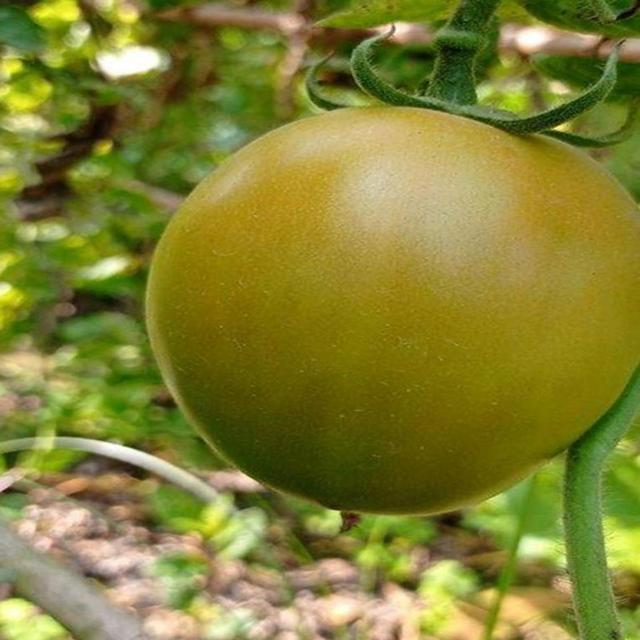Healthy Fruit: (92, 49, 427, 353)
